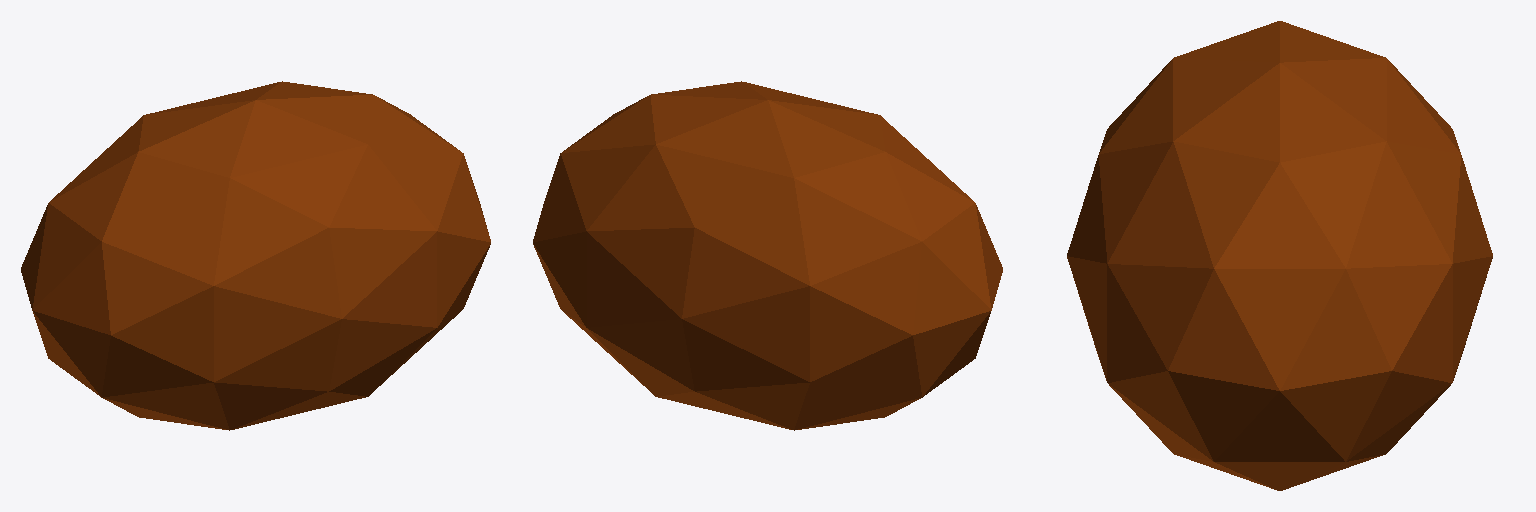
The robot description file, URDF, robot "potato":
<?xml version="1.0"?>
<robot name="potato"
       xmlns:xi="http://www.w3.org/2001/XInclude">
  <gazebo>
    <static>false</static>
  </gazebo>
  <link name="nil_link">
    <visual>
      <origin xyz="0 0 0" rpy="0 -0 0"/>
      <geometry>
        <mesh filename="model://potato/meshes/nil_link_mesh.dae" scale="1 1 1" />
      </geometry>
    </visual>
    <collision>
      <origin xyz="0 0 0" rpy="0 -0 0"/>
      <geometry>
        <mesh filename="model://potato/meshes/nil_link_mesh.dae" scale="1 1 1" />
      </geometry>
    </collision>
    <inertial>
      <mass value="0.001" />
      <origin xyz="0 0 0" rpy="0 -0 0"/>
      <inertia ixx="1e-03" ixy="0" ixz="0" iyy="1e-03" iyz="0" izz="1e-03"/>
    </inertial>
  </link>
  <gazebo reference="nil_link">
    <mu1>0.9</mu1>
    <mu2>0.9</mu2>
  </gazebo>
</robot>

--- Render facts (derived) ---
The picture shows the robot from 3 angles, left to right: view 1: azimuth 30°, elevation 25°; view 2: azimuth 150°, elevation 25°; view 3: azimuth 270°, elevation 25°; orthographic projection.
Robot: potato — 1 links, 0 joints (none); root link nil_link; default pose: all joints at 0.
Links seen in each view (by area): view 1: nil_link; view 2: nil_link; view 3: nil_link.
Link boxes in pixels (left/top/right/bottom): nil_link: left=21, top=81, right=490, bottom=430; nil_link: left=533, top=81, right=1002, bottom=430; nil_link: left=1067, top=21, right=1492, bottom=490.
Bounding box of the posed robot: 0.09 × 0.06 × 0.06 m (x, y, z).
Meshes: 1 distinct files referenced, 1 mesh visuals loaded (1 Collada DAE).